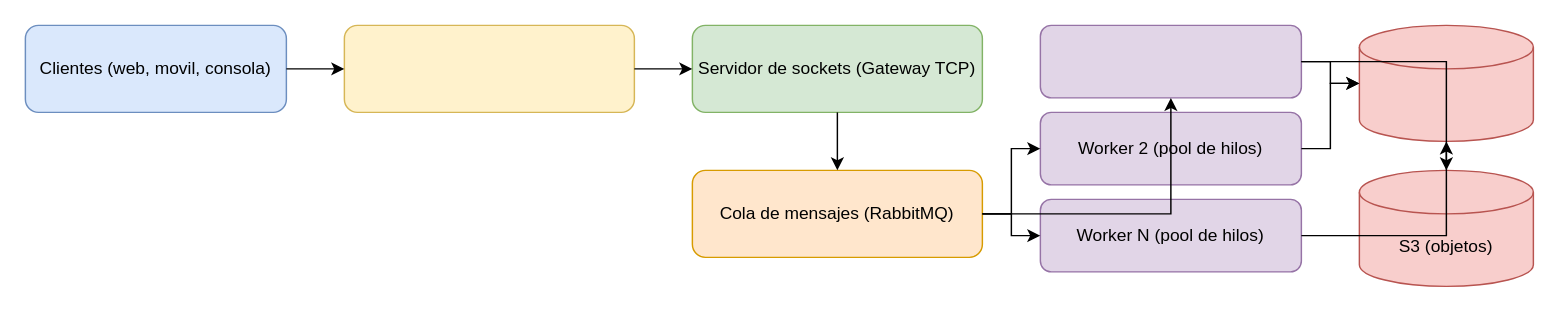
This 1559x312 diagram has some shape labels left out. Here are the shapes that lost their labels. From the top down, the centre of each, then its label:
pixel 488 68: Balanceador de carga (Nginx/HAProxy)
pixel 1170 61: Worker 1 (pool de hilos)
pixel 1445 82: PostgreSQL
